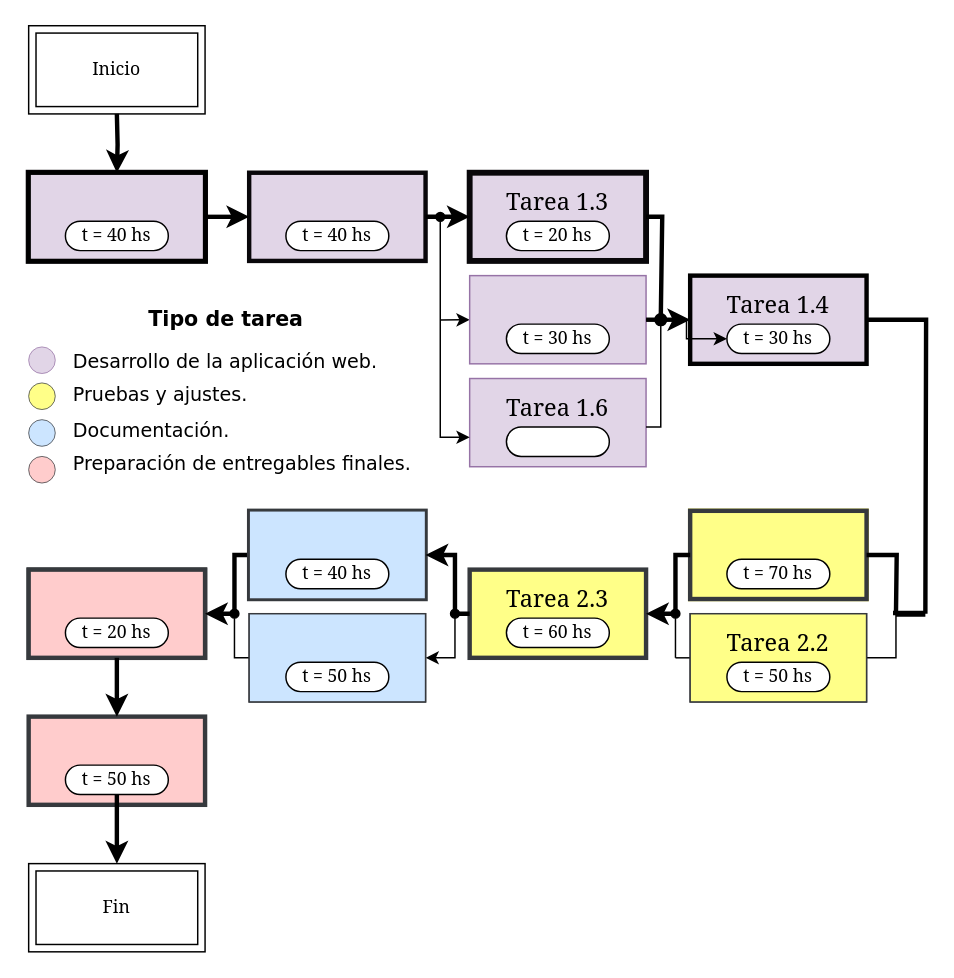
Some shapes in this 954 by 978 pixel diagram are drawn without their labels. The shapes that lost their labels are listed below. From the top down, each one's box as (x1, y1, x2, y2) in pixels, then its label:
(26, 170, 207, 262): Tarea 1.1
(246, 170, 427, 262): Tarea 1.2
(468, 274, 646, 364): Tarea 1.5
(505, 426, 609, 456): t = 90 hs
(248, 509, 426, 599): Tarea 3.1
(687, 508, 868, 600): Tarea 2.1
(26, 567, 207, 659): Tarea 4.1
(248, 612, 426, 702): Tarea 3.2
(26, 714, 207, 806): Tarea 4.2
